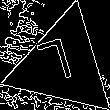L_S: (40, 35, 84, 94)
